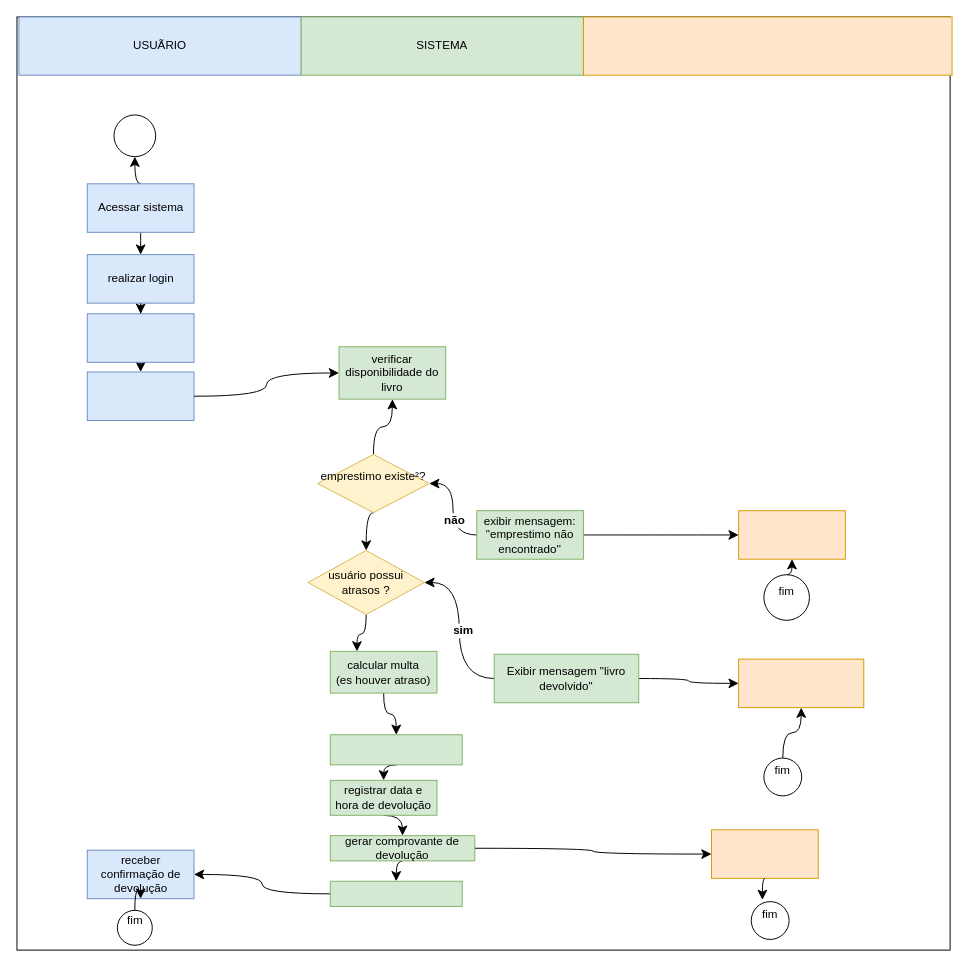
Image size: 969x967. Some labels were removed from this diagram. The shapes that lost their labels are listed below. From the top down, each one's centre as x and y in pixels, then its label:
the point at 767,45: BIBLIOTECÃRIO
the point at 140,337: selecionar opção "devolver livro"
the point at 140,395: informar código do emprestimo ou ler codigo de barras
the point at 791,534: verificar informações do empretimo
the point at 801,683: confirmar situação com o usuario
the point at 395,749: calcular multa
the point at 764,853: entregar livro e conferir estado do livro
the point at 395,893: eviar confirmação ao usúario
